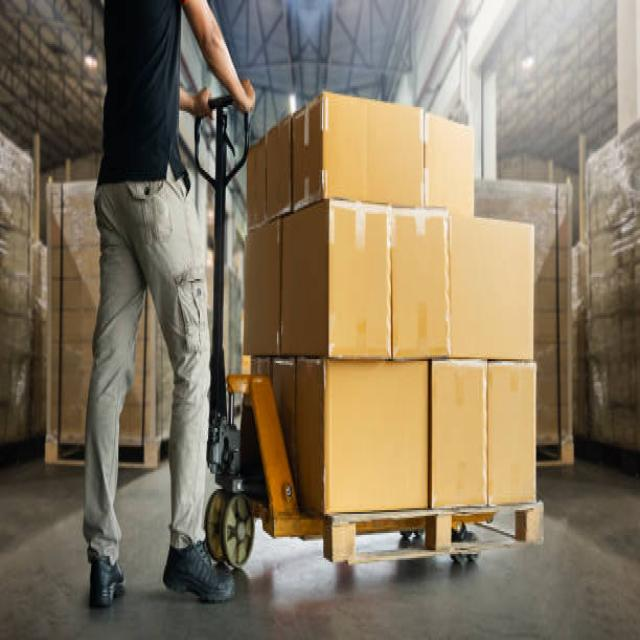Wooden-Pallets: (329, 500, 548, 567)
